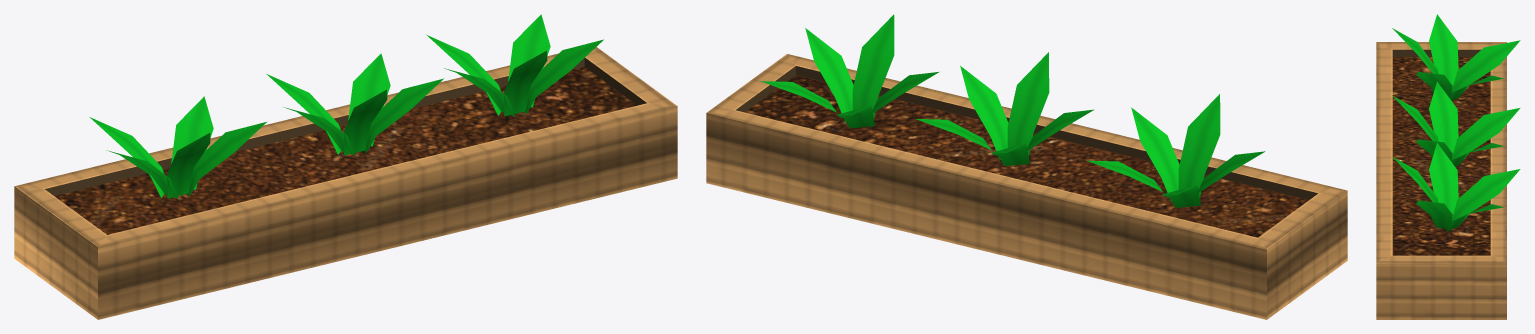
Rendered from kadan.fbx.
3 views of the same model, side by side, from view 1: azimuth 30°, elevation 25°; view 2: azimuth 150°, elevation 25°; view 3: azimuth 270°, elevation 25° (orthographic). The views are drawn at different scales.
Visible parts, largest first — view 1: kadan, kusa2, kusa1, kusa; view 2: kadan, kusa, kusa2, kusa1; view 3: kadan, kusa, kusa2, kusa1.
Boxes of the visible parts, bbox=[...] form: kadan: bbox=[14, 47, 677, 319]; kusa2: bbox=[89, 96, 266, 198]; kusa1: bbox=[266, 53, 443, 155]; kusa: bbox=[426, 14, 603, 116]; kadan: bbox=[706, 54, 1347, 319]; kusa: bbox=[760, 14, 939, 128]; kusa2: bbox=[1087, 94, 1265, 207]; kusa1: bbox=[916, 52, 1093, 166]; kadan: bbox=[1376, 42, 1506, 319]; kusa: bbox=[1393, 143, 1520, 231]; kusa2: bbox=[1392, 14, 1520, 100]; kusa1: bbox=[1392, 82, 1520, 166].
Size of the model in its own units: 4 by 0.9918 by 1.11.
Materials: 1 (1 with a texture image).
